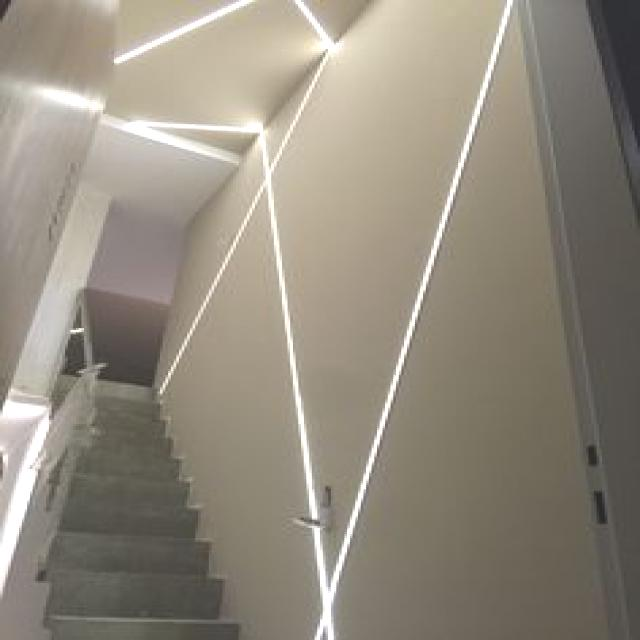stair: (9, 384, 275, 640)
